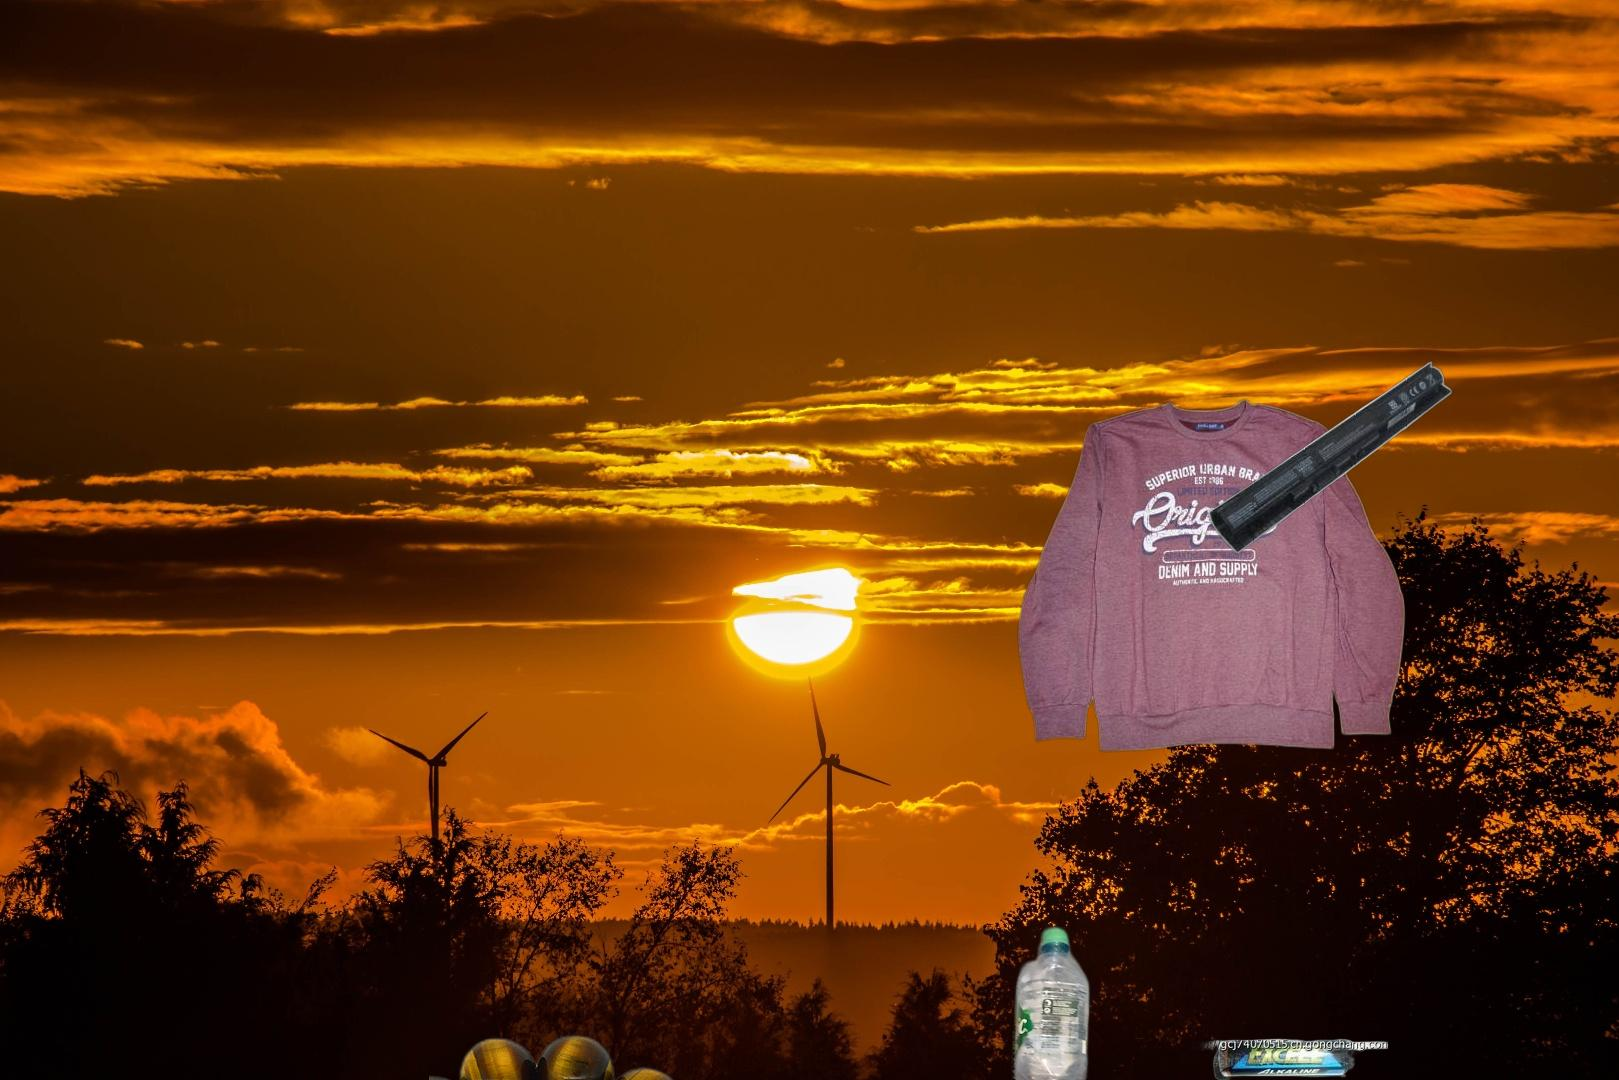battery: (1206, 358, 1457, 556), (1187, 1035, 1388, 1080)
clothes: (1015, 395, 1408, 756)
penholder: (429, 1029, 1179, 1080)
plastic-bottles: (800, 920, 1093, 1080)
